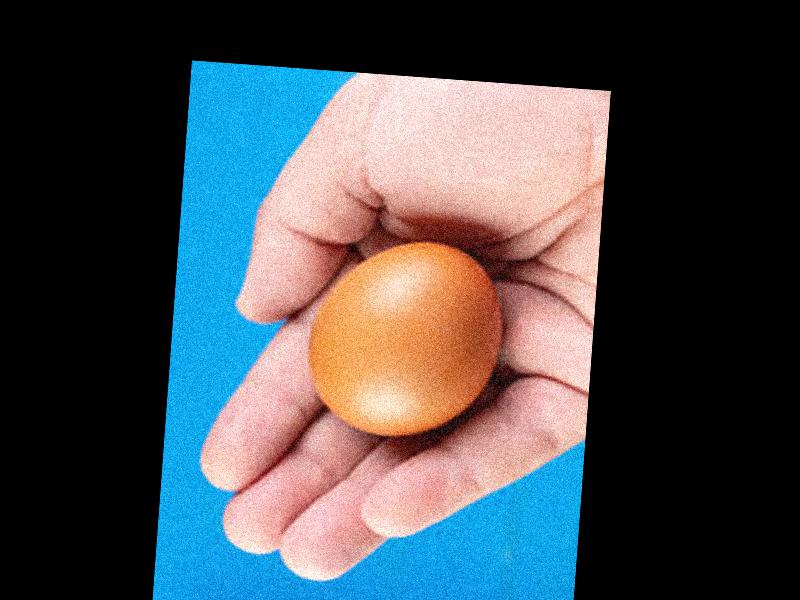Eggs: (303, 235, 503, 445)
